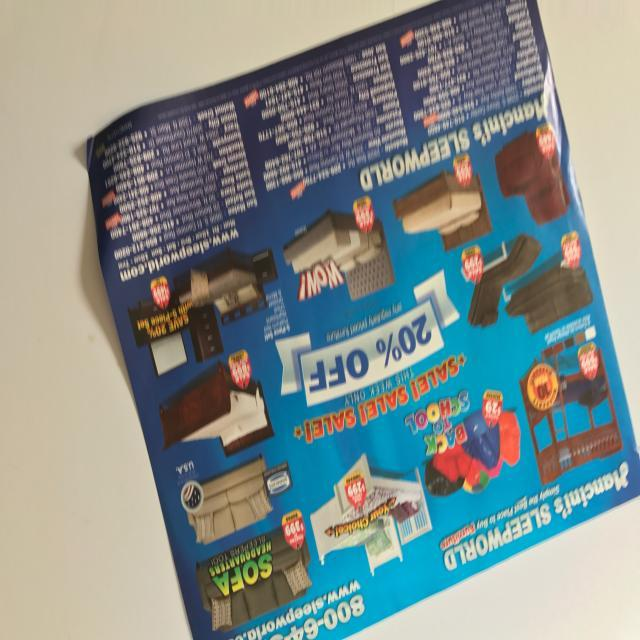paper: (79, 1, 639, 640)
